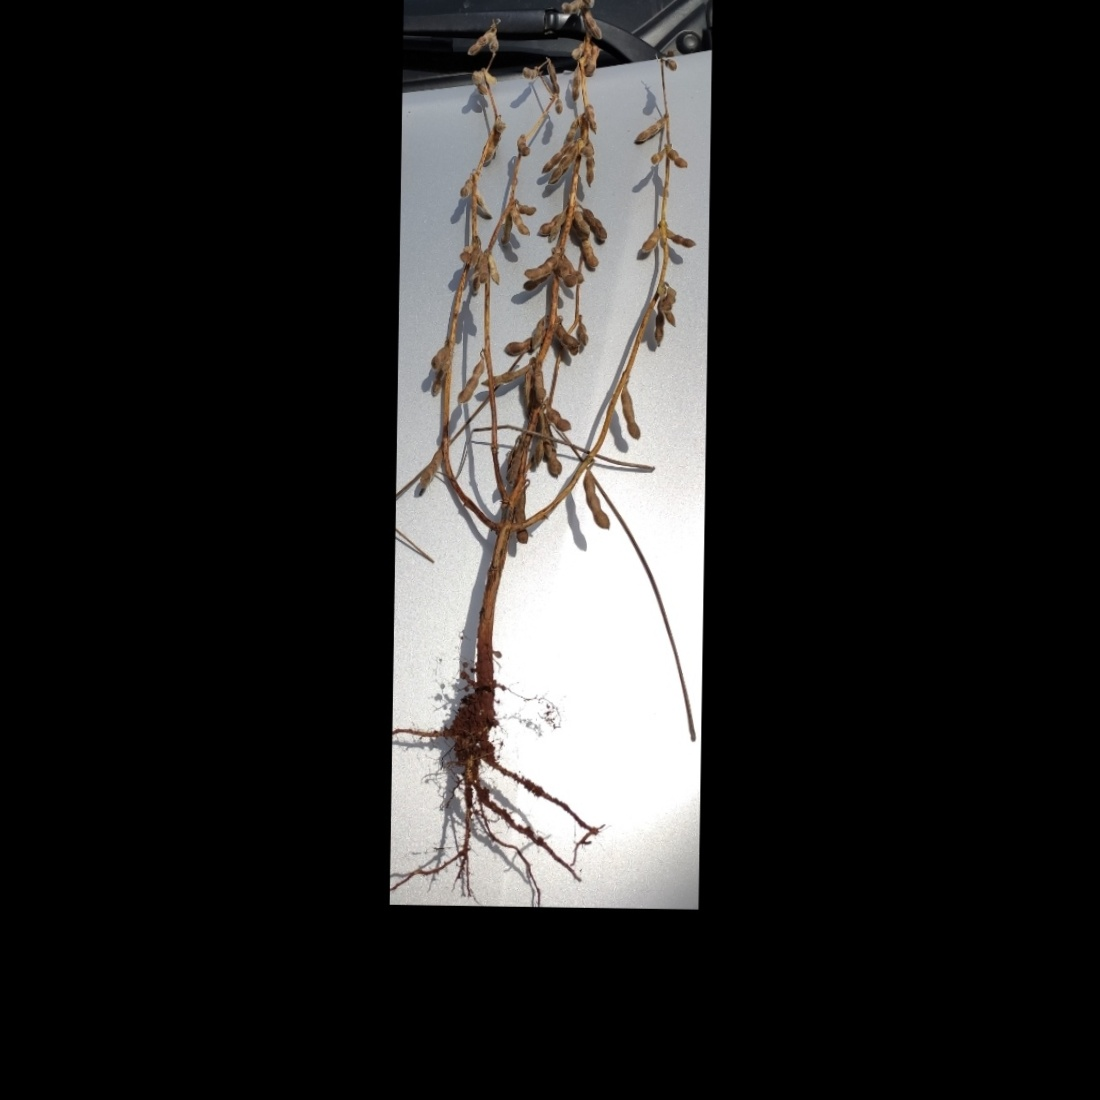pod: (580, 470, 614, 534), (618, 385, 647, 443), (454, 354, 485, 405), (628, 114, 665, 147), (547, 146, 576, 187), (579, 203, 610, 242), (417, 444, 443, 490), (540, 402, 572, 432), (549, 319, 581, 349), (664, 225, 701, 249), (508, 202, 533, 238), (666, 143, 694, 174), (581, 7, 604, 41), (465, 29, 493, 57), (564, 59, 581, 103), (544, 58, 563, 97), (424, 339, 448, 370)
soy: (409, 0, 708, 860)
